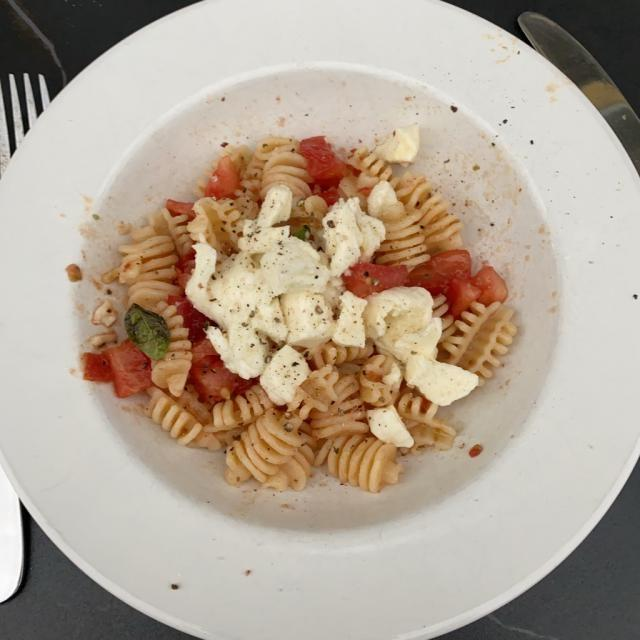cheese: (183, 193, 468, 453)
pasta: (112, 137, 509, 484)
